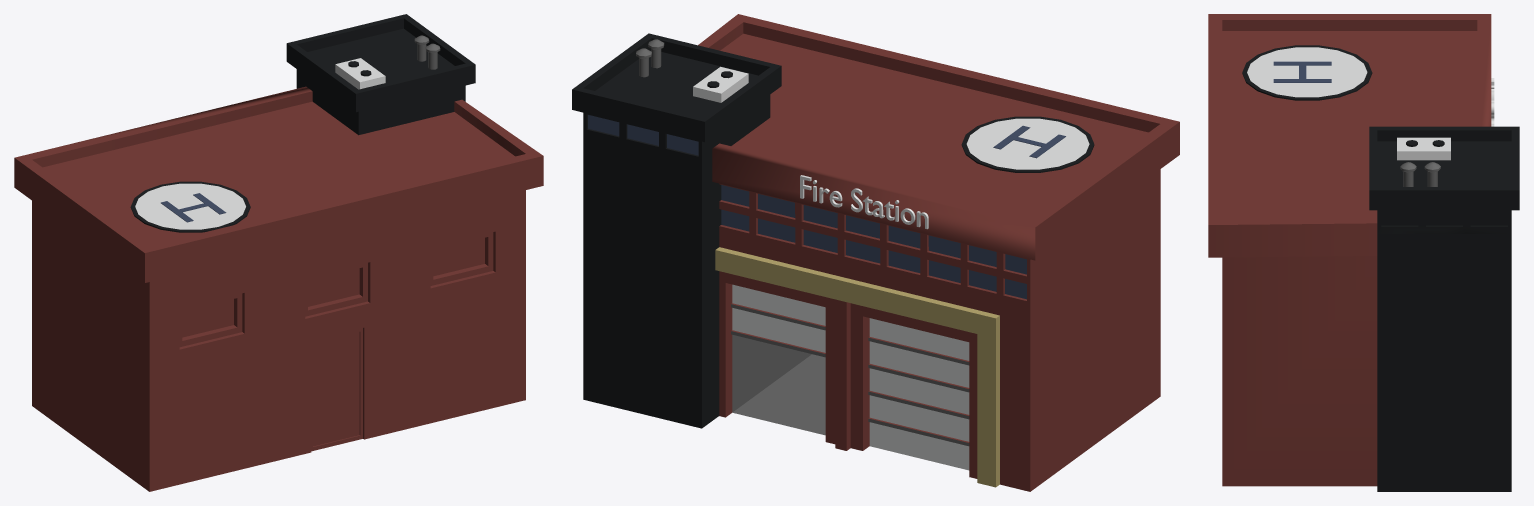
File: fire.fbx
3 renders of one model, left to right at view 1: azimuth 30°, elevation 25°; view 2: azimuth 150°, elevation 25°; view 3: azimuth 270°, elevation 25°, orthographic. The views are drawn at different scales.
Visible parts, largest first — view 1: fire station; view 2: fire station; view 3: fire station.
Part boxes in pixels (bbox=[...]): fire station: bbox=[14, 14, 543, 491]; fire station: bbox=[572, 14, 1179, 491]; fire station: bbox=[1208, 14, 1519, 491].
Bounding box in the file's own units: 2121 × 1472 × 1301.
